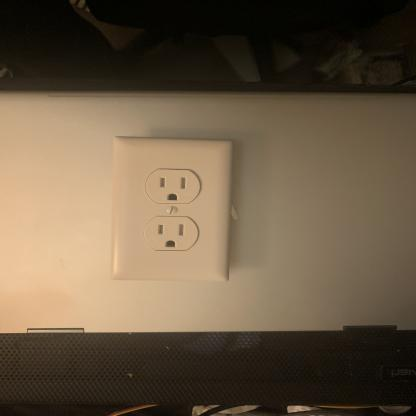OUTLET: (110, 134, 236, 282)
